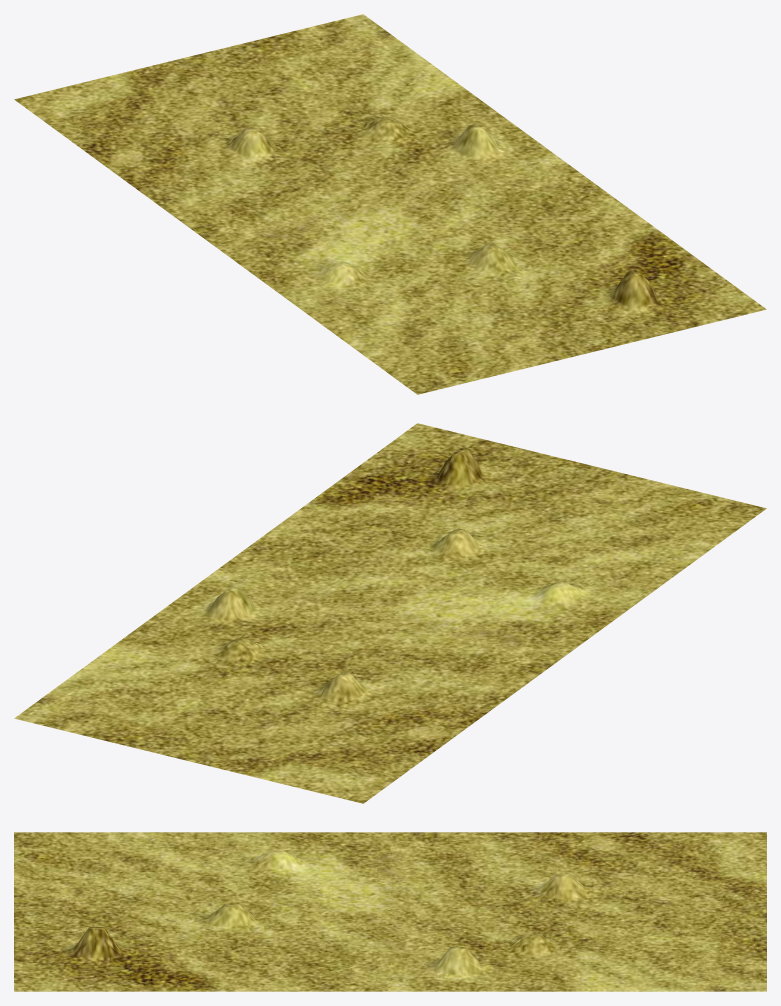
File: Map.fbx
The picture shows the model from 3 angles, top to bottom: view 1: azimuth 30°, elevation 25°; view 2: azimuth 150°, elevation 25°; view 3: azimuth 270°, elevation 25°; orthographic projection. The views are drawn at different scales.
Parts seen in each view (by area): view 1: pPlane1; view 2: pPlane1; view 3: pPlane1.
Part boxes in pixels (bbox=[...]): pPlane1: bbox=[14, 14, 766, 394]; pPlane1: bbox=[14, 423, 766, 803]; pPlane1: bbox=[14, 832, 766, 991].
Size of the model in its own units: 100 by 6.79 by 200.
1 material, 1 textured.
